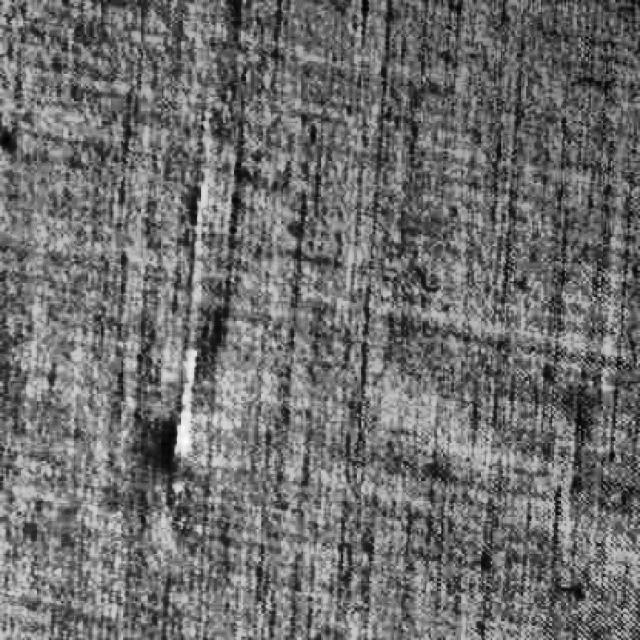thread_error: (139, 98, 226, 518)
